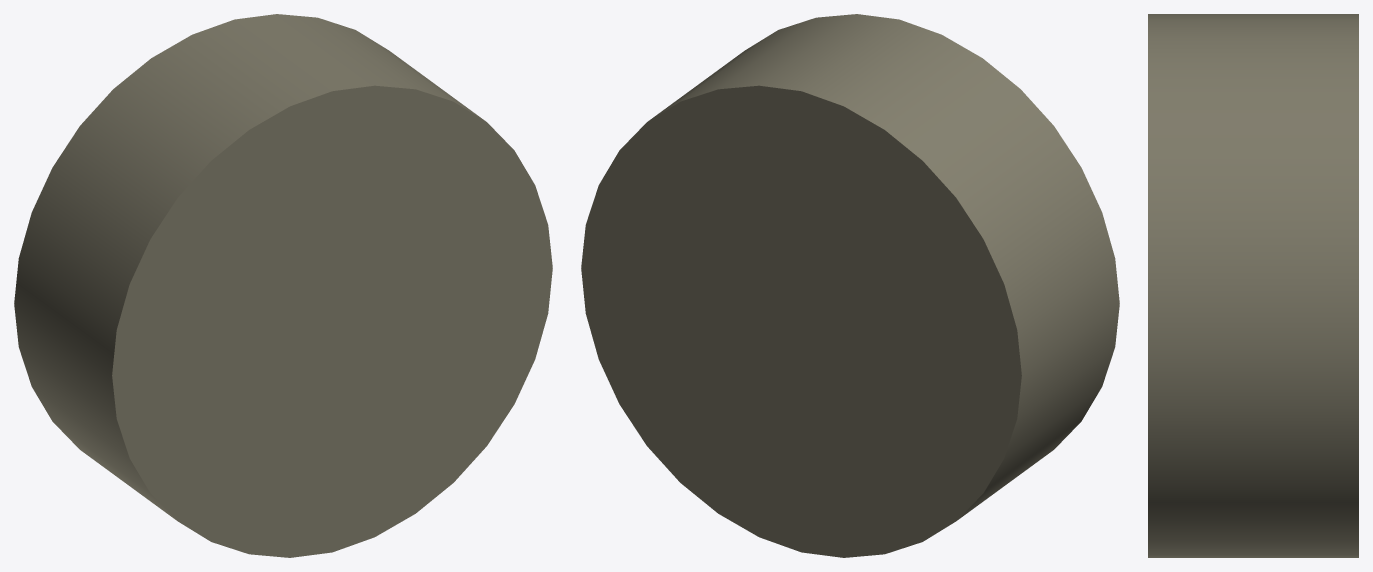
File: ButtonCylinder.fbx
The picture shows the model from 3 angles, left to right: view 1: azimuth 30°, elevation 25°; view 2: azimuth 150°, elevation 25°; view 3: azimuth 270°, elevation 25°; orthographic projection. The views are drawn at different scales.
Visible parts, largest first — view 1: ButtonCylinder; view 2: ButtonCylinder; view 3: ButtonCylinder.
Part boxes in pixels (left/top/right/bottom): ButtonCylinder: left=14, top=14, right=552, bottom=557; ButtonCylinder: left=581, top=14, right=1119, bottom=557; ButtonCylinder: left=1148, top=14, right=1358, bottom=557.
Bounding box in the file's own units: 2.6 × 2.6 × 1.
